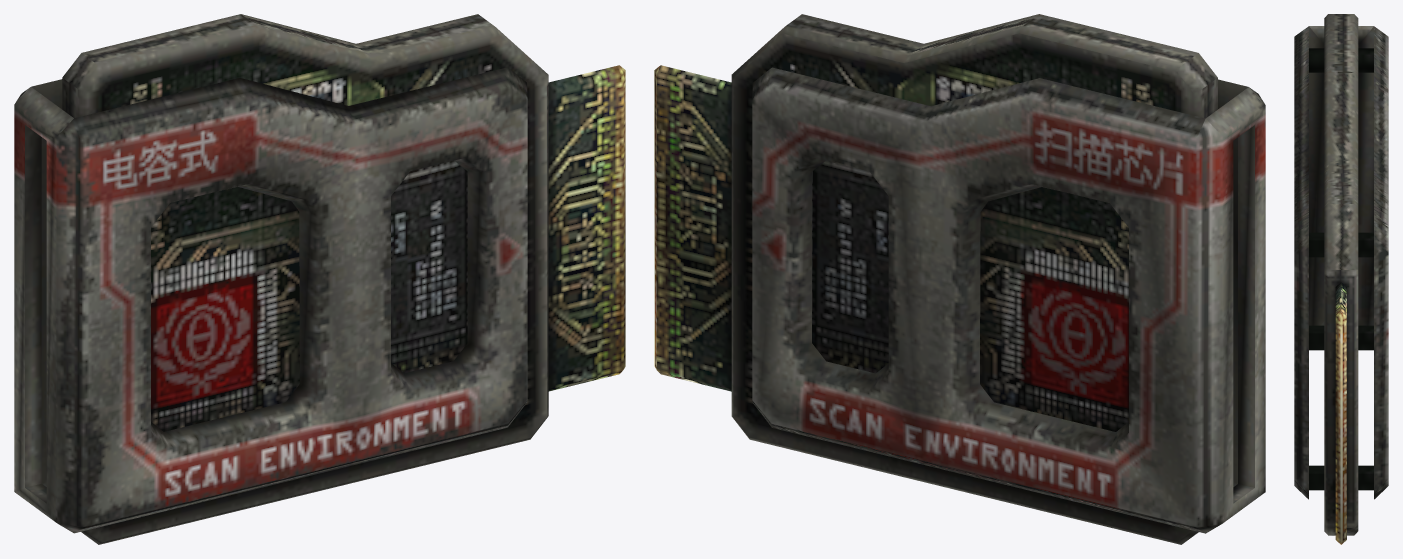
Rendered from 02_05_computer_scan_chip_env.dae.
3 views of the same model, side by side, from view 1: azimuth 30°, elevation 25°; view 2: azimuth 150°, elevation 25°; view 3: azimuth 270°, elevation 25° (orthographic). The views are drawn at different scales.
Visible parts, largest first — view 1: chip_env; view 2: chip_env; view 3: chip_env.
Boxes of the visible parts, left/top/right/bottom form: chip_env: left=14, top=14, right=625, bottom=544; chip_env: left=654, top=14, right=1265, bottom=544; chip_env: left=1294, top=14, right=1388, bottom=544.
Bounding box in the file's own units: 0.2629 × 0.2041 × 0.0483.
